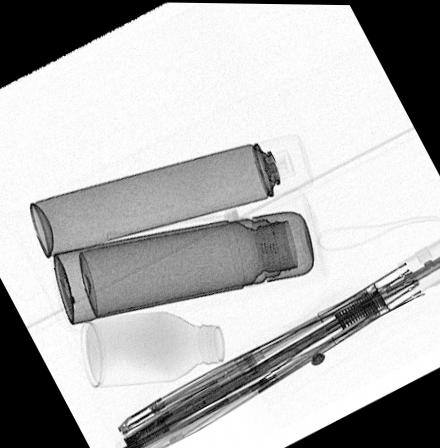Sprayer: (28, 130, 314, 260)
